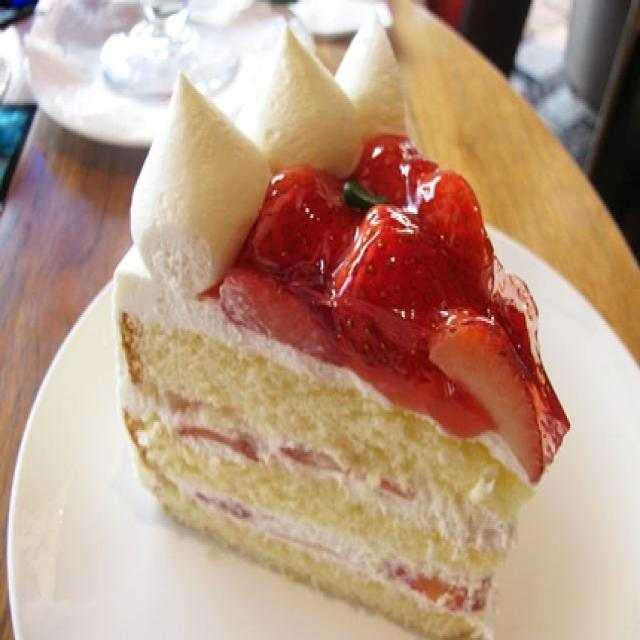蛋糕甜品: (2, 18, 625, 630)
